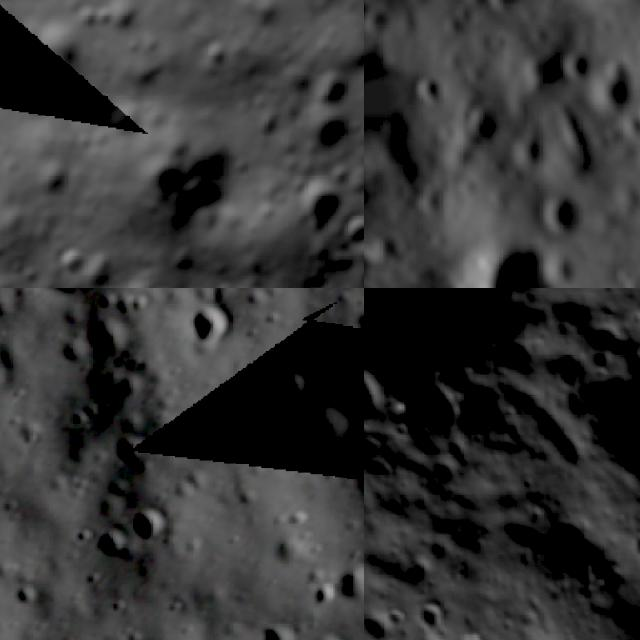crater: (557, 306, 640, 543), (429, 215, 591, 288), (496, 31, 600, 127), (391, 352, 483, 452), (556, 47, 640, 156), (523, 174, 598, 252), (281, 172, 356, 248), (570, 301, 640, 375), (285, 401, 362, 467), (364, 344, 407, 447), (301, 107, 364, 170), (302, 64, 361, 122), (406, 68, 460, 127), (43, 239, 97, 288), (182, 306, 234, 350), (128, 498, 170, 550), (408, 594, 453, 640), (271, 369, 319, 409), (88, 318, 128, 360), (473, 0, 535, 27), (332, 209, 364, 261), (613, 513, 640, 573), (113, 428, 148, 470), (96, 527, 133, 566), (364, 601, 401, 640), (336, 562, 364, 608), (309, 580, 344, 616), (440, 621, 503, 640), (382, 598, 415, 634), (260, 616, 303, 640), (300, 624, 364, 640), (406, 622, 461, 640), (628, 203, 640, 269), (348, 299, 364, 339), (358, 11, 364, 70)
